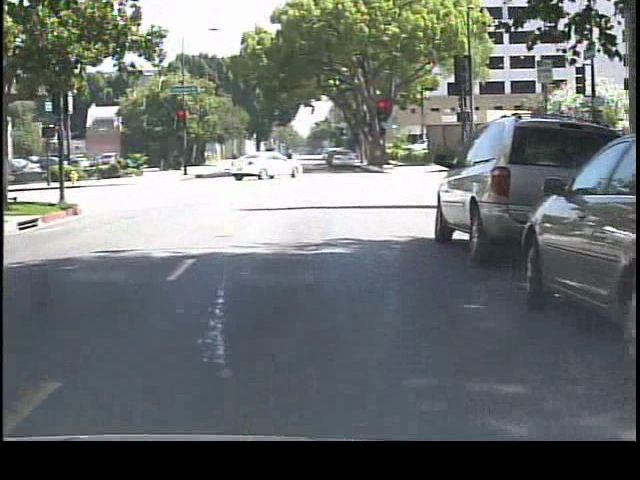person: (282, 141, 298, 175)
